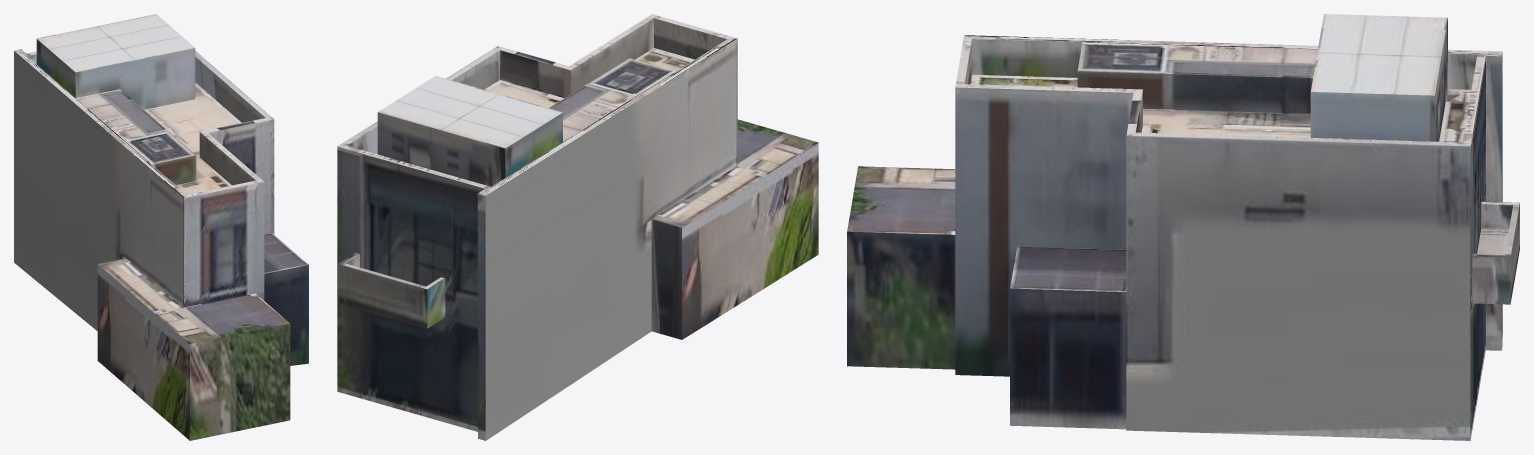
3 views of the same model, side by side, from view 1: azimuth 30°, elevation 25°; view 2: azimuth 150°, elevation 25°; view 3: azimuth 270°, elevation 25° (orthographic). The views are drawn at different scales.
Parts seen in each view (by area): view 1: B283684038401062A0; view 2: B283684038401062A0; view 3: B283684038401062A0.
Boxes of the visible parts, <box> form: B283684038401062A0: <box>14,14,308,440</box>; B283684038401062A0: <box>337,14,818,440</box>; B283684038401062A0: <box>847,14,1519,440</box>.
Bounding box in the file's own units: 8.96 × 10.38 × 19.16.
1 material, 1 textured.
